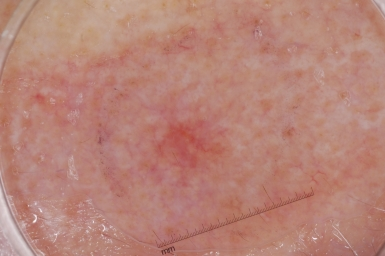seborrheic keratosis: (116, 83, 245, 202)
